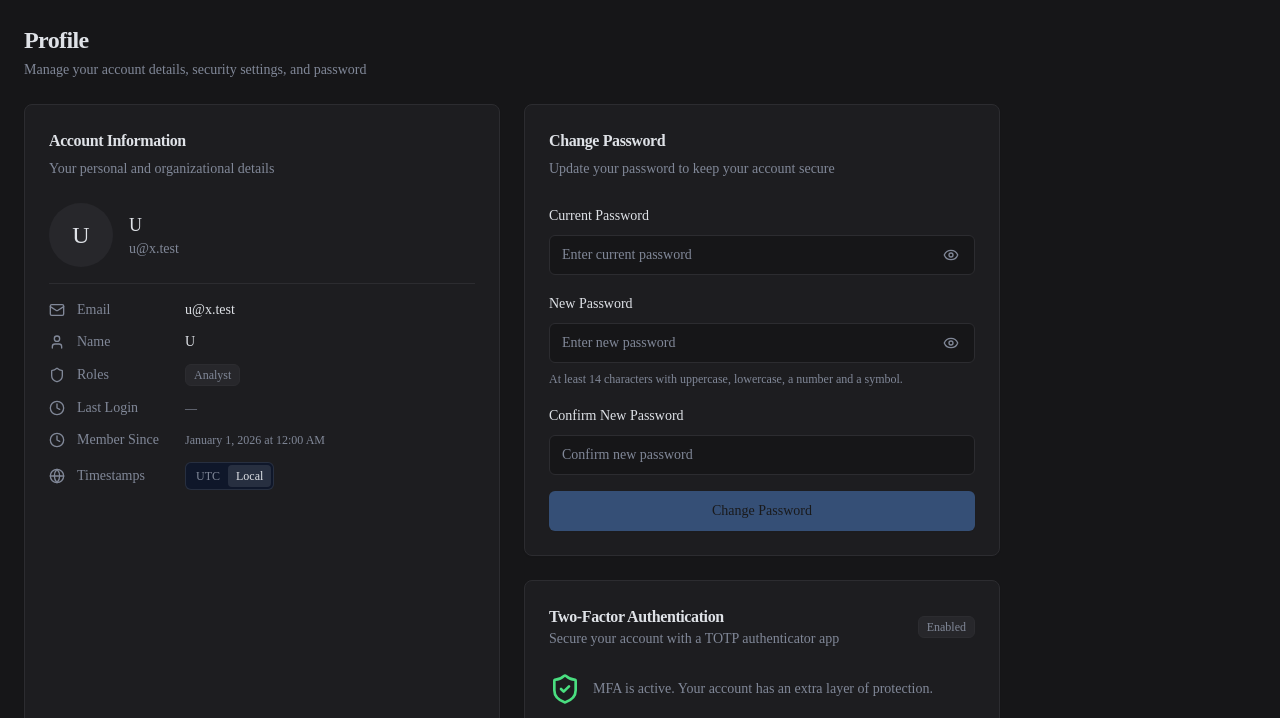
Profile: MFA enrollment required by the security policy › password hints follow the org policy
The width and height of the screenshot is (1280, 718).
Expected: the text "At least 14 characters" is shown, [549,372,903,386]
Type "Short1!" into the password field labelled "New Password" at point(762, 343), box [549,323,975,363]
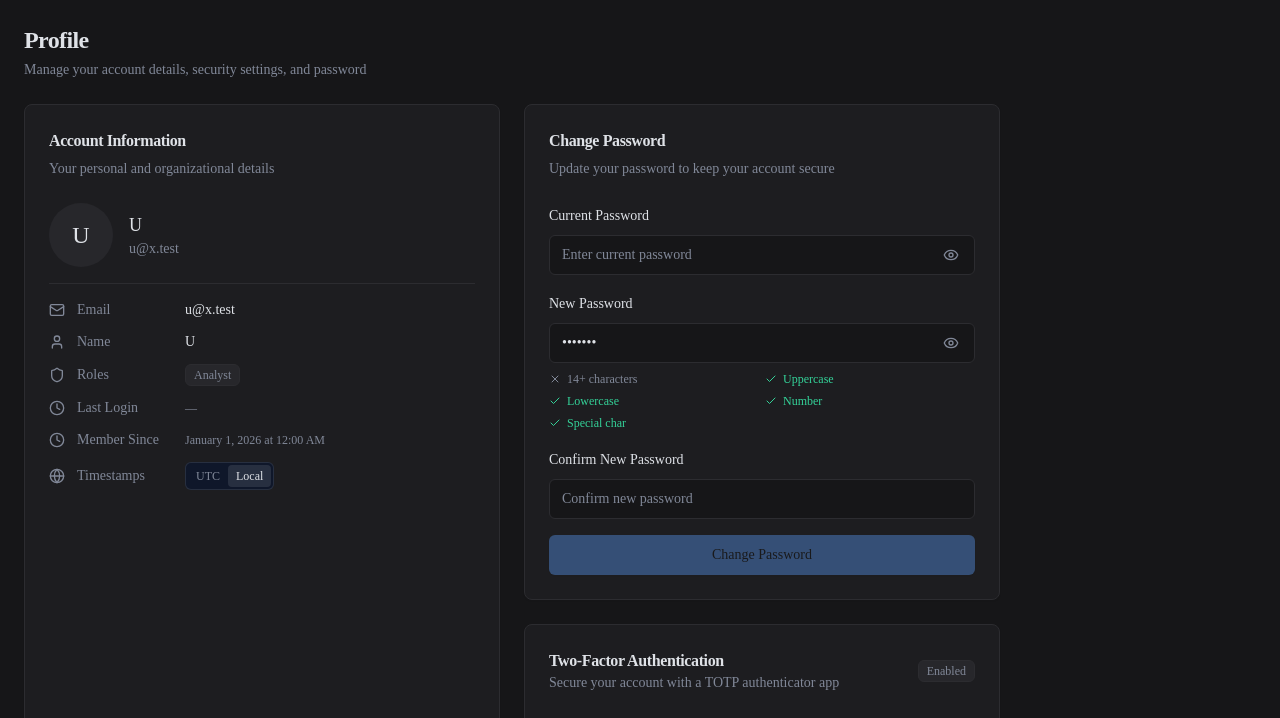
Expected: the text "14+ characters" is shown, [567,371,637,387]
